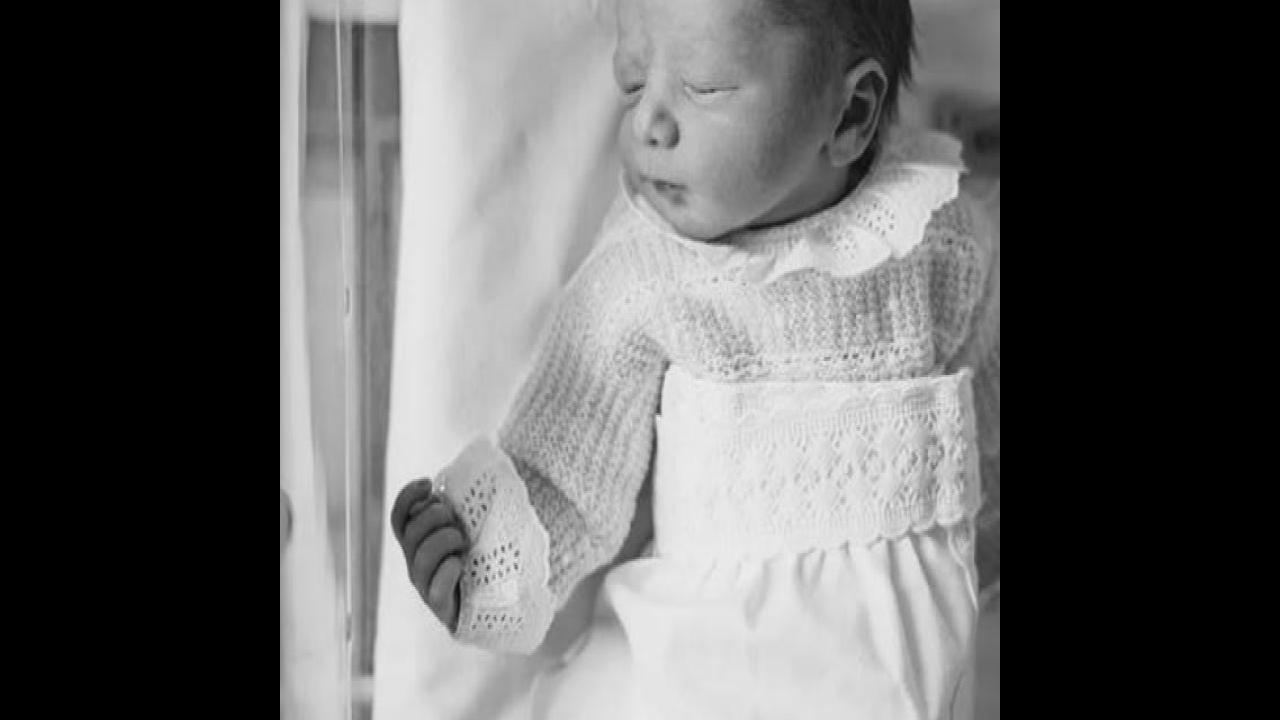hand: (388, 465, 466, 628)
